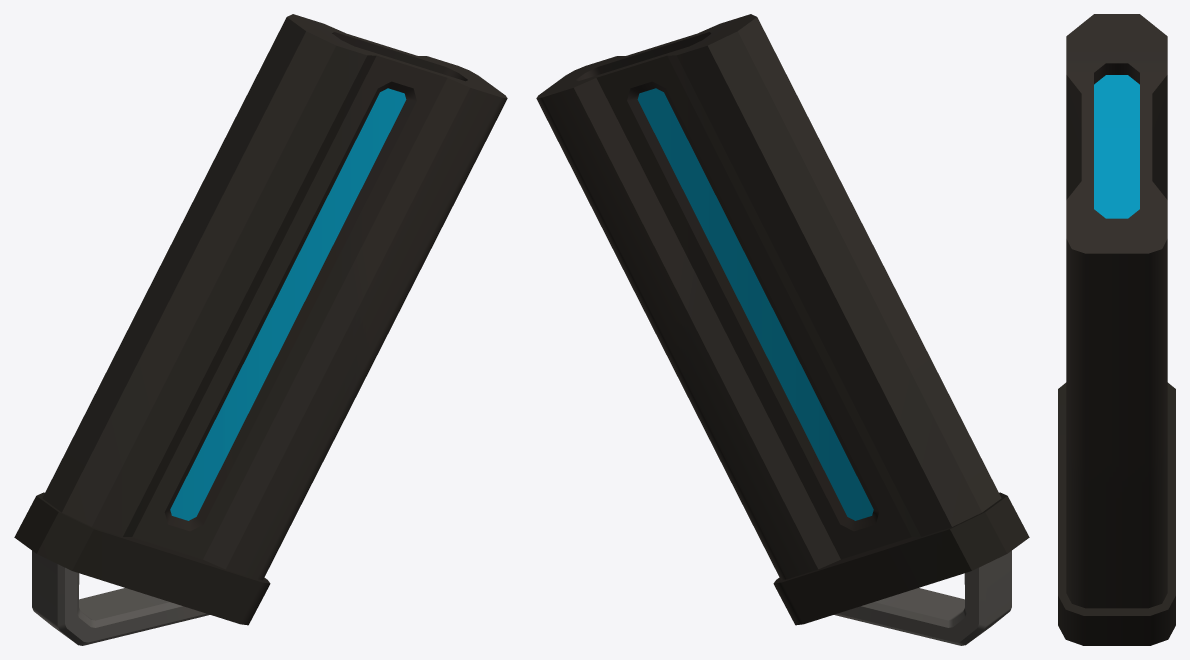
Rendered from SMG2_MagazineExtended.fbx.
3 views of the same model, side by side, from view 1: azimuth 30°, elevation 25°; view 2: azimuth 150°, elevation 25°; view 3: azimuth 270°, elevation 25° (orthographic). The views are drawn at different scales.
Visible parts, largest first — view 1: SMG2_MagazineExtended; view 2: SMG2_MagazineExtended; view 3: SMG2_MagazineExtended.
Boxes of the visible parts, left/top/right/bottom form: SMG2_MagazineExtended: left=14, top=14, right=507, bottom=645; SMG2_MagazineExtended: left=536, top=14, right=1029, bottom=645; SMG2_MagazineExtended: left=1058, top=14, right=1175, bottom=645.
Size of the model in its own units: 13.82 by 16.18 by 2.58.
